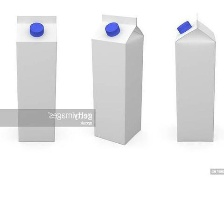carton: (87, 12, 147, 146), (9, 11, 61, 145), (171, 9, 217, 144)
